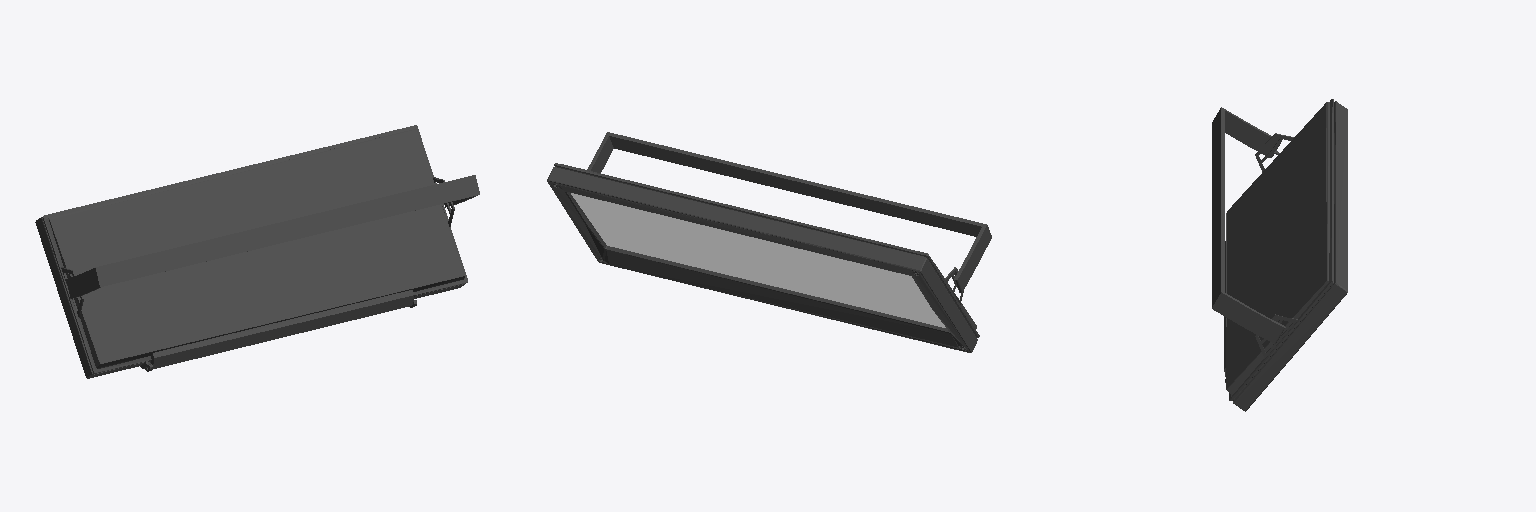
File: zhaoming-liangbian.obj
3 views of the same model, side by side, from view 1: azimuth 30°, elevation 25°; view 2: azimuth 150°, elevation 25°; view 3: azimuth 270°, elevation 25° (orthographic).
Visible parts, largest first — view 1: zhaoming; view 2: zhaoming; view 3: zhaoming.
Boxes of the visible parts, <box> form: zhaoming: <box>35,125,479,378</box>; zhaoming: <box>547,132,991,352</box>; zhaoming: <box>1212,99,1347,411</box>.
Bounding box in the file's own units: 1027 × 344 × 320.